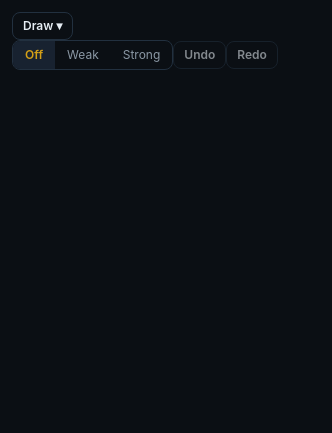
Test case: DrawingToolbar › arms a tool from the menu and closes it
The image size is (332, 433).
What coordinates should you click on to do the following:
click the button with aria-label "Drawing tools"
I would click on:
 (43, 26)
Its box is [12,12,73,40].
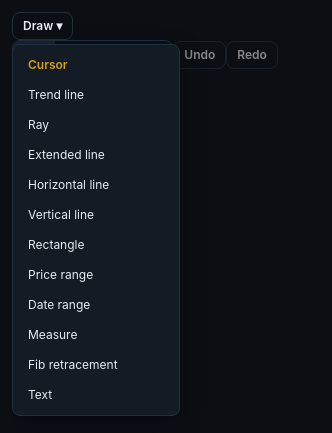
What coordinates should you click on to do the following:
click the menu item with aria-label "Draw Rectangle"
I would click on:
 (96, 245)
Its box is [19,231,173,259].
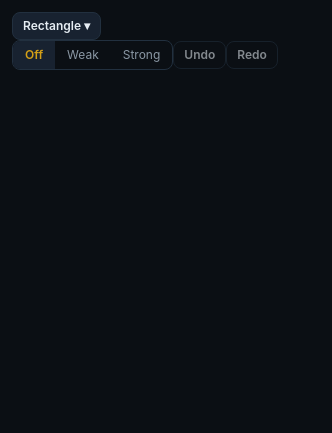
Check: the button with aria-label "Drawing tool: Rectangle" is shown, box [12,12,101,40]
